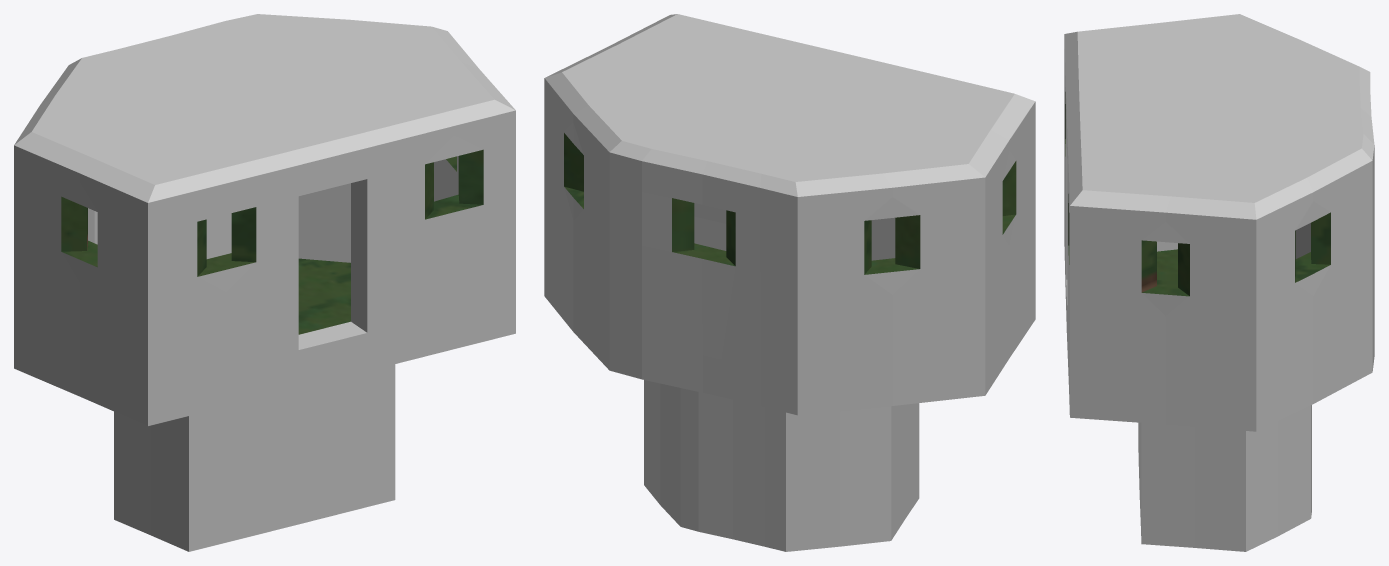
The model's file is Pillbox_1.fbx.
The picture shows the model from 3 angles, left to right: view 1: azimuth 30°, elevation 25°; view 2: azimuth 150°, elevation 25°; view 3: azimuth 270°, elevation 25°; orthographic projection. The views are drawn at different scales.
Visible parts, largest first — view 1: polySurface1; view 2: polySurface1; view 3: polySurface1.
Part boxes in pixels (x1=…): polySurface1: x1=14, y1=14, x2=515, y2=551; polySurface1: x1=544, y1=14, x2=1035, y2=551; polySurface1: x1=1064, y1=14, x2=1374, y2=551.
Bounding box in the file's own units: 664 × 424 × 583.
